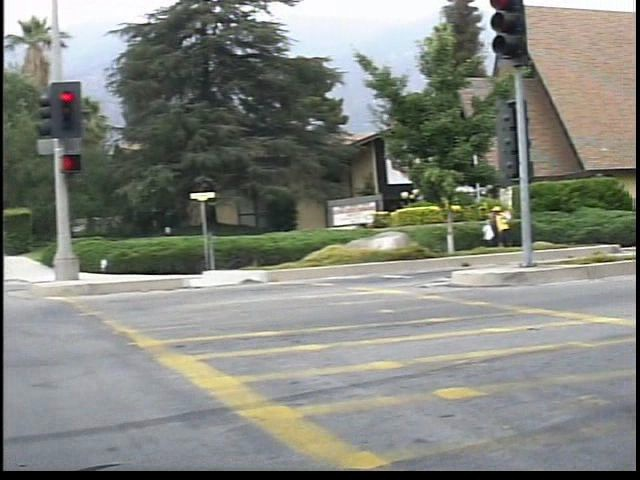person: (502, 196, 525, 251)
